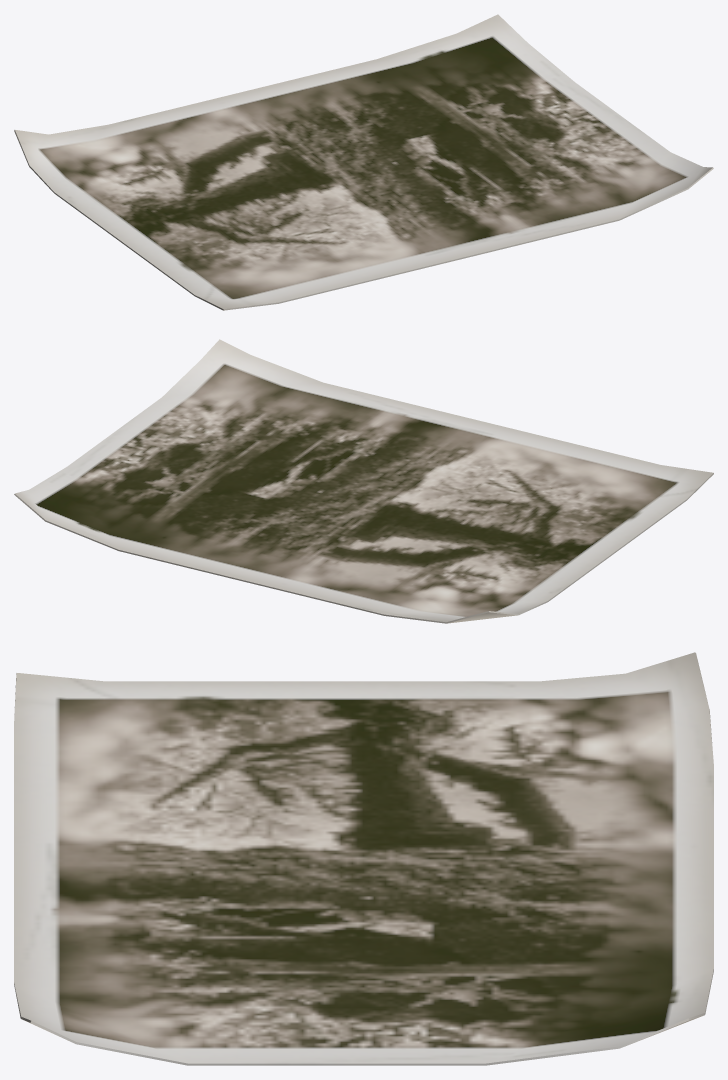
File: Picture_2_Large.FBX
3 views of the same model, one above another, from view 1: azimuth 30°, elevation 25°; view 2: azimuth 150°, elevation 25°; view 3: azimuth 270°, elevation 25° (orthographic). The views are drawn at different scales.
Parts seen in each view (by area): view 1: Picture_2_Large; view 2: Picture_2_Large; view 3: Picture_2_Large.
Boxes of the visible parts, x1,y1,x2,y2 form: Picture_2_Large: (14,14,713,310); Picture_2_Large: (14,339,713,623); Picture_2_Large: (14,652,713,1065).
Bounding box in the file's own units: 39.11 × 1.85 × 30.26.
